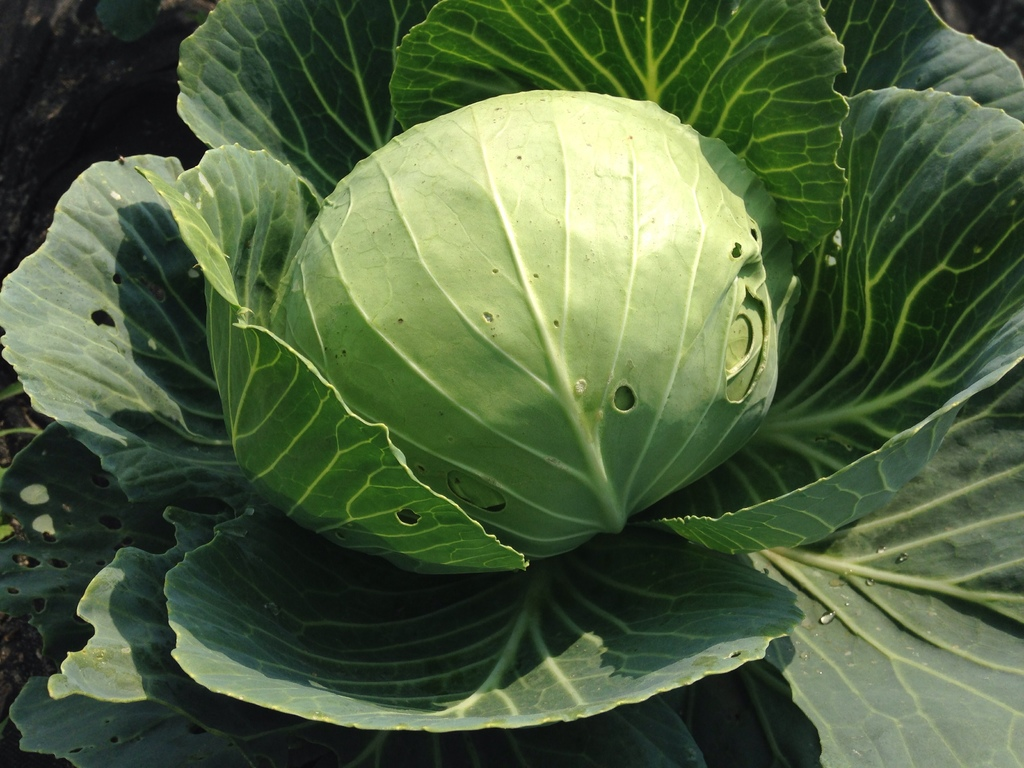Cabbage: (269, 87, 781, 564)
